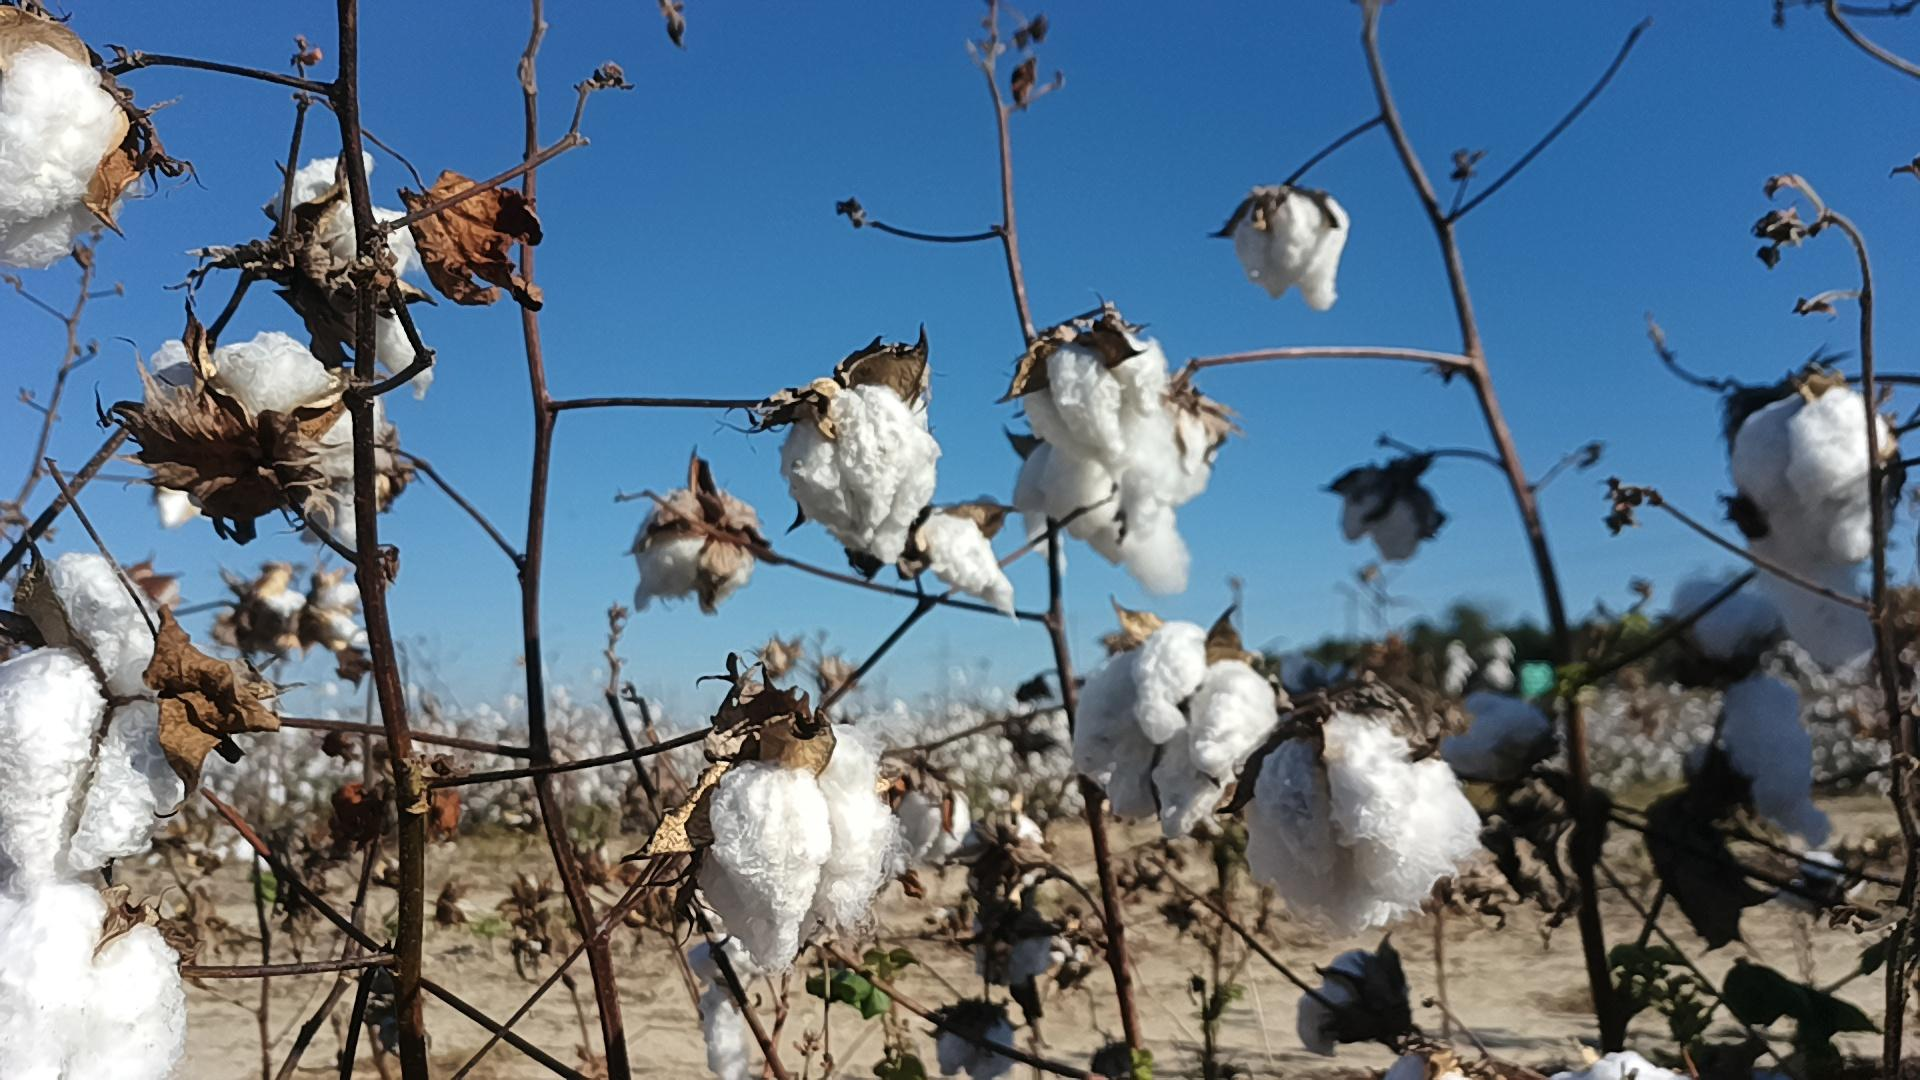cotton_ready: (0, 549, 190, 893), (1242, 716, 1490, 932), (702, 725, 898, 973), (150, 339, 378, 535), (1068, 622, 1278, 829), (1730, 396, 1879, 671), (276, 156, 438, 404), (0, 886, 190, 1080), (779, 378, 945, 559), (0, 45, 133, 262), (1023, 326, 1185, 487), (1716, 675, 1838, 845), (1785, 385, 1895, 560), (1236, 189, 1350, 309), (633, 485, 733, 611), (1673, 580, 1789, 679), (1437, 694, 1556, 779), (922, 516, 1015, 621), (1298, 945, 1386, 1056), (684, 935, 745, 1080), (972, 901, 1068, 989), (1340, 477, 1428, 564), (960, 814, 1043, 905), (874, 787, 968, 858), (1158, 398, 1222, 498), (934, 1009, 1021, 1080), (1548, 1048, 1689, 1080)
